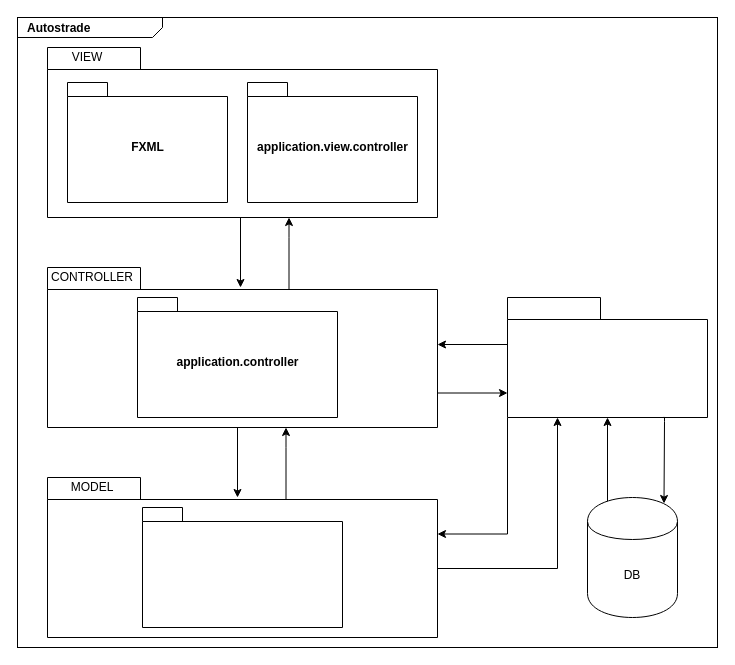
This 735x665 diagram has some shape labels left out. Each missing label, with the centre of its shape:
"application.model" belongs at pixel 242 567.
"DAO" belongs at pixel 607 357.
